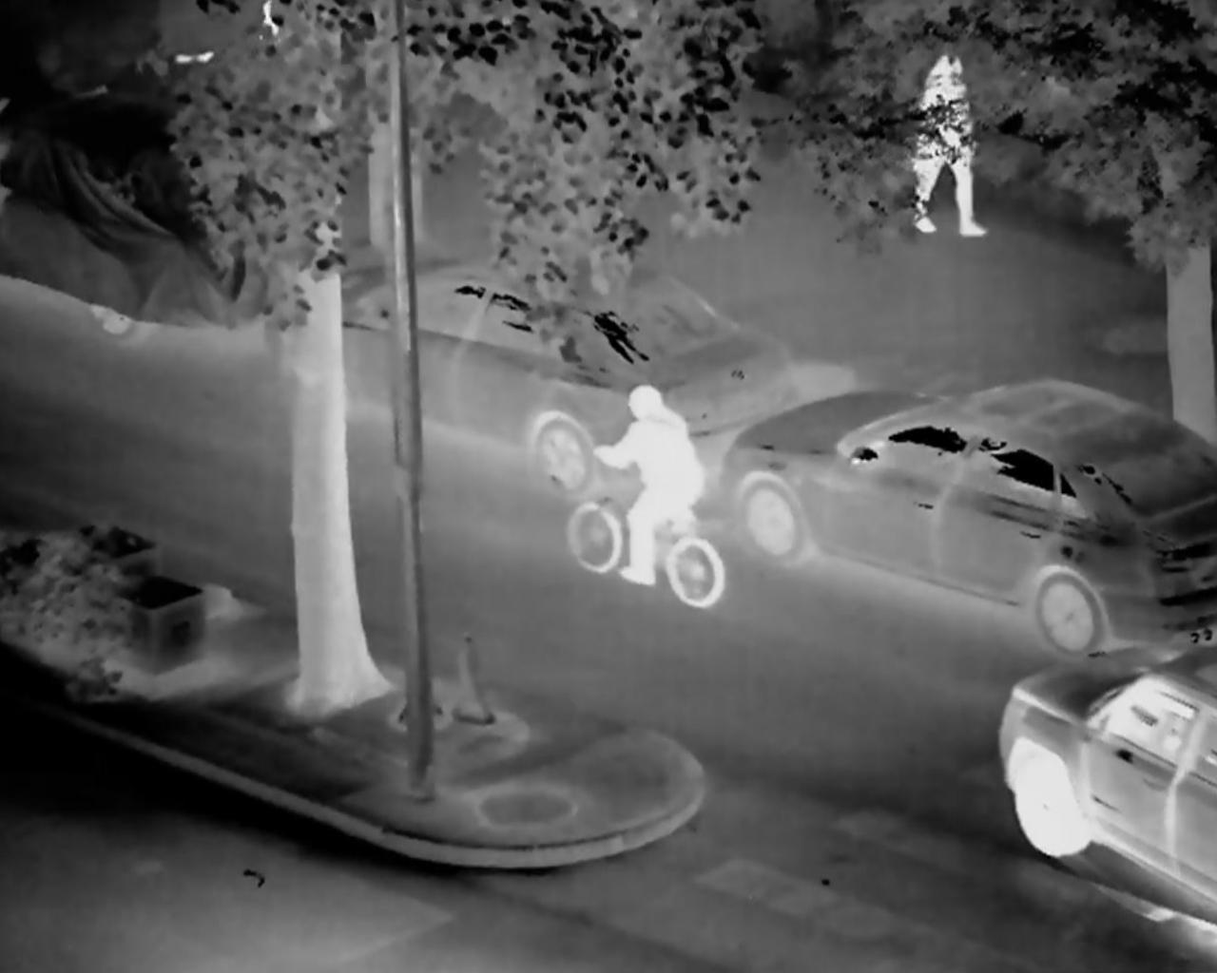person: (584, 378, 706, 594), (894, 52, 997, 246)
